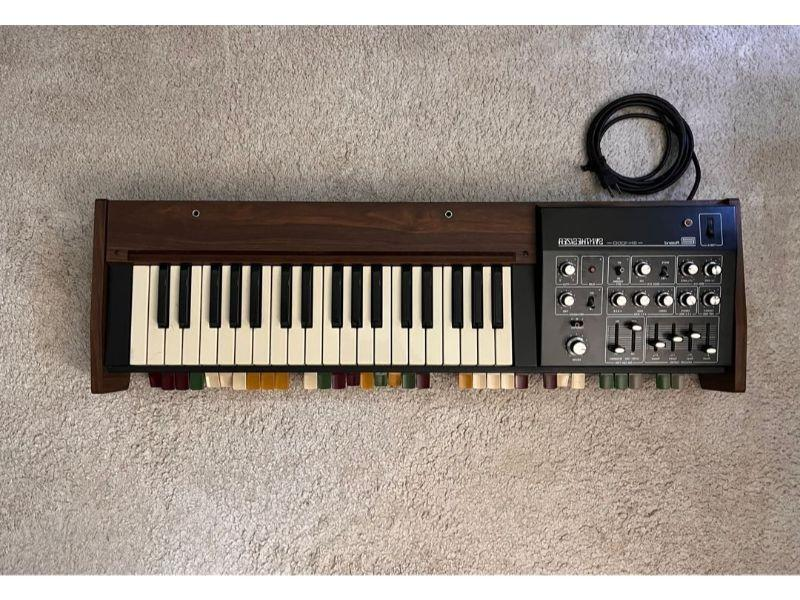synthesizer: (82, 184, 750, 408)
